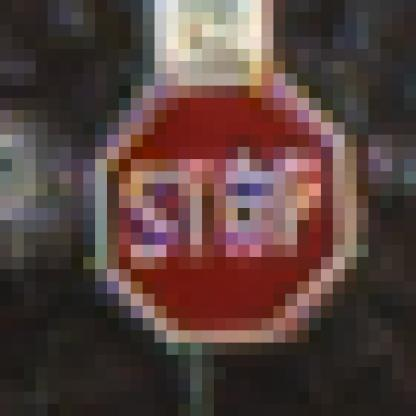Stop: (99, 81, 346, 337)
